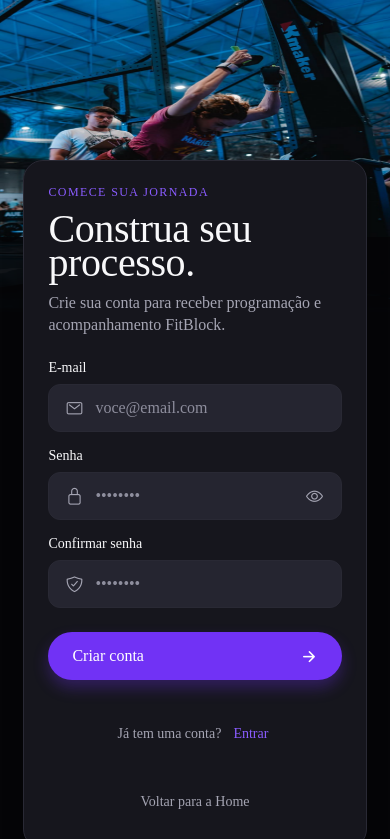
AuthScreen › error handling and messaging › displays error when signUp throws an error
Type "existing@fitblock.test" into the field with test id "auth-email" at (204, 408), box [83,385,325,431]
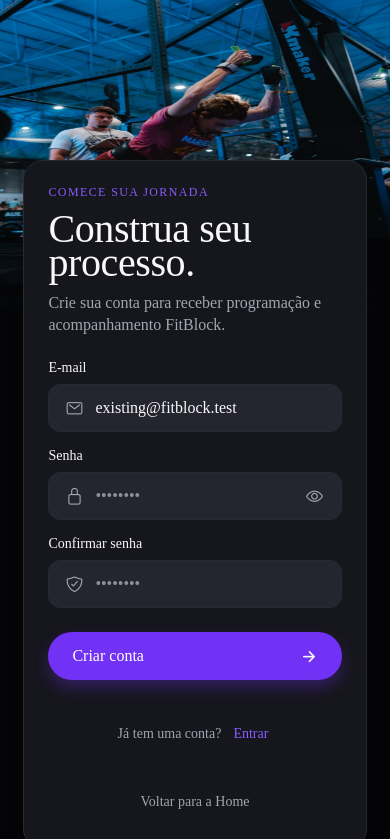
Type "StrongPass123!" into the password field with test id "auth-password" at (188, 496), box [83,473,293,519]
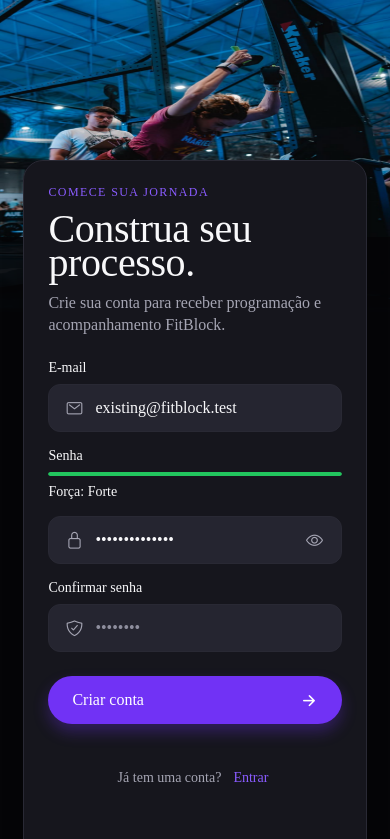
Type "StrongPass123!" into the password field with test id "auth-confirm-password" at (204, 628), box [83,605,325,651]
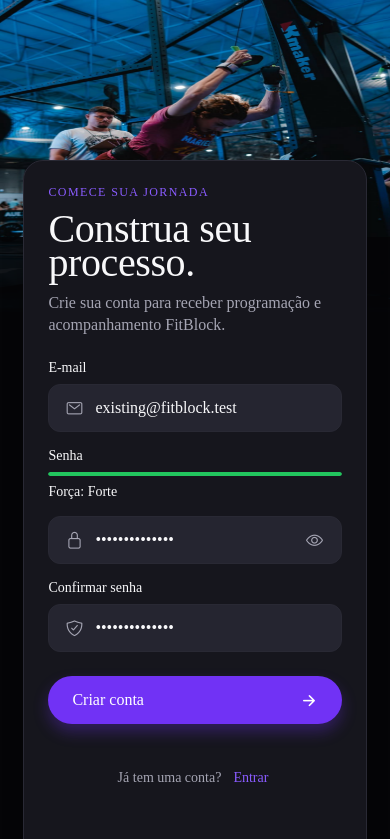
Click the button with test id "auth-submit" at (108, 700), box [48,676,342,724]
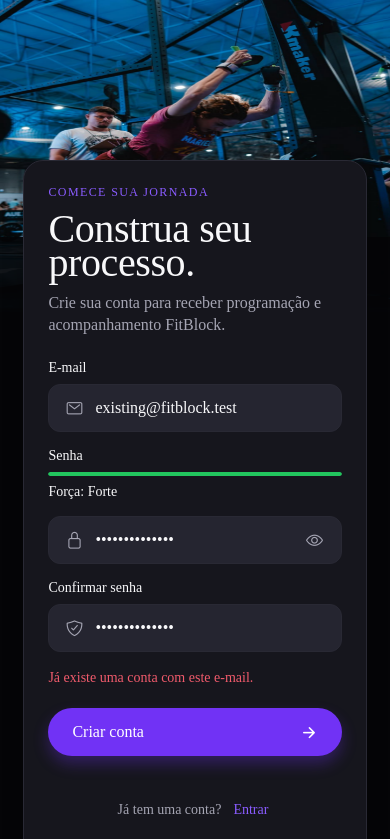
Check: the text "Já existe uma conta com este e-mail." is shown, box [48,670,253,685]
